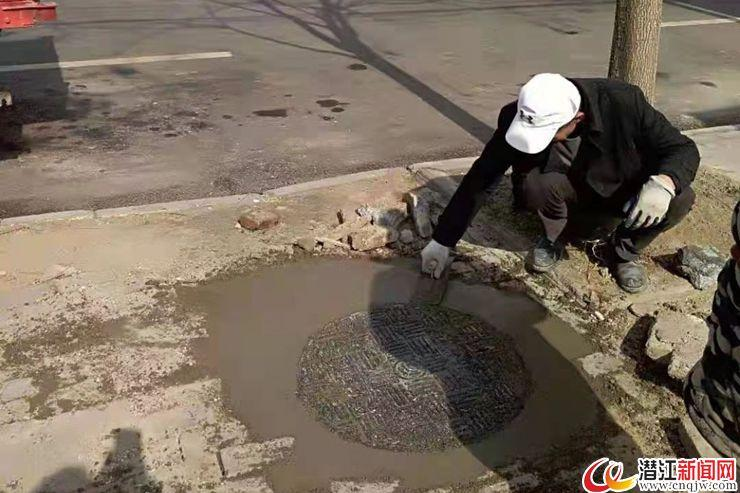good: (207, 250, 593, 483)
